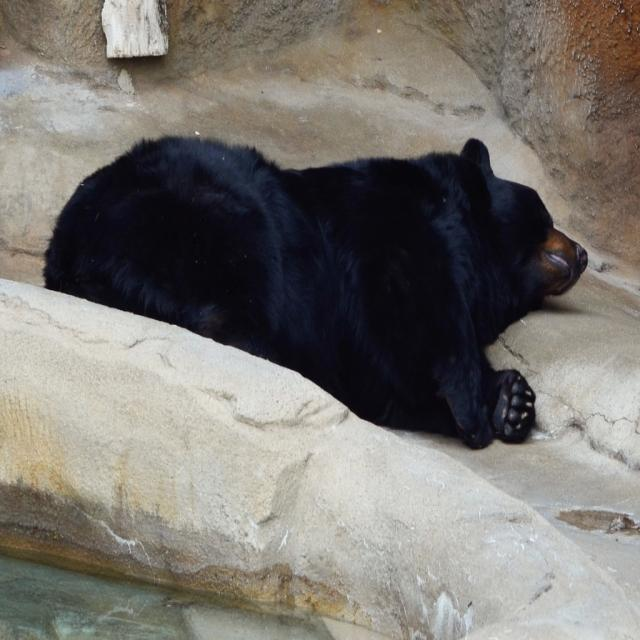Buffalo: (40, 134, 589, 450)
